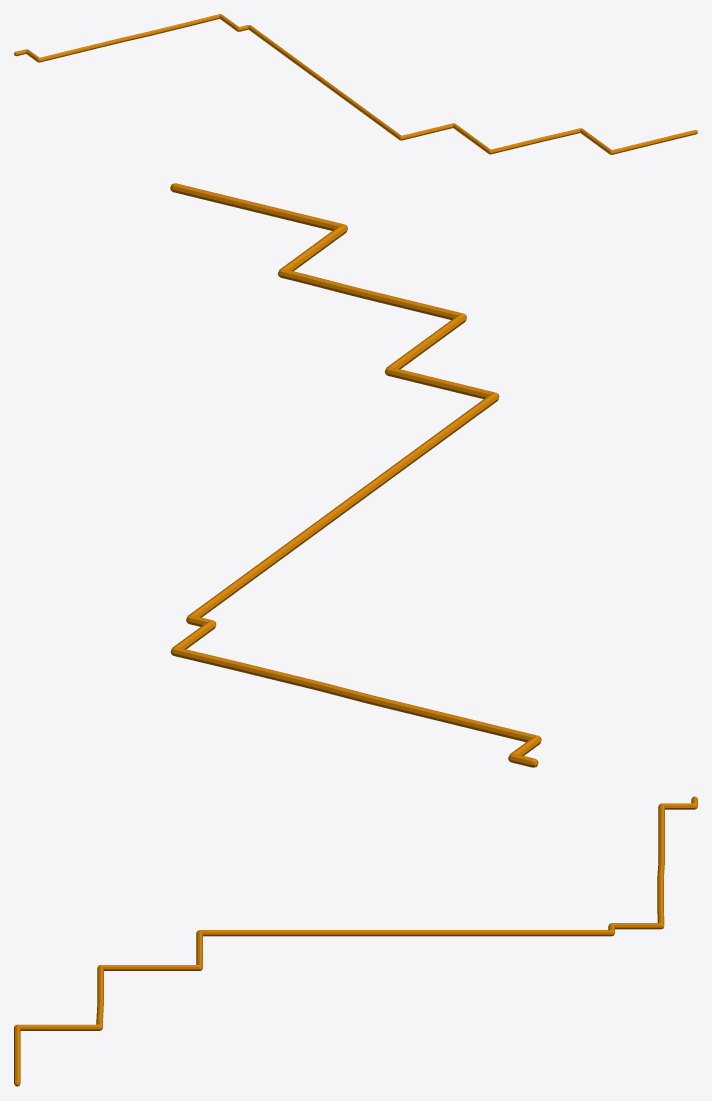
3 renders of one model, top to bottom at view 1: azimuth 30°, elevation 25°; view 2: azimuth 150°, elevation 25°; view 3: azimuth 270°, elevation 25°, orthographic. The views are drawn at different scales.
Size of the model in its own units: 2058 by 20 by 2075.
